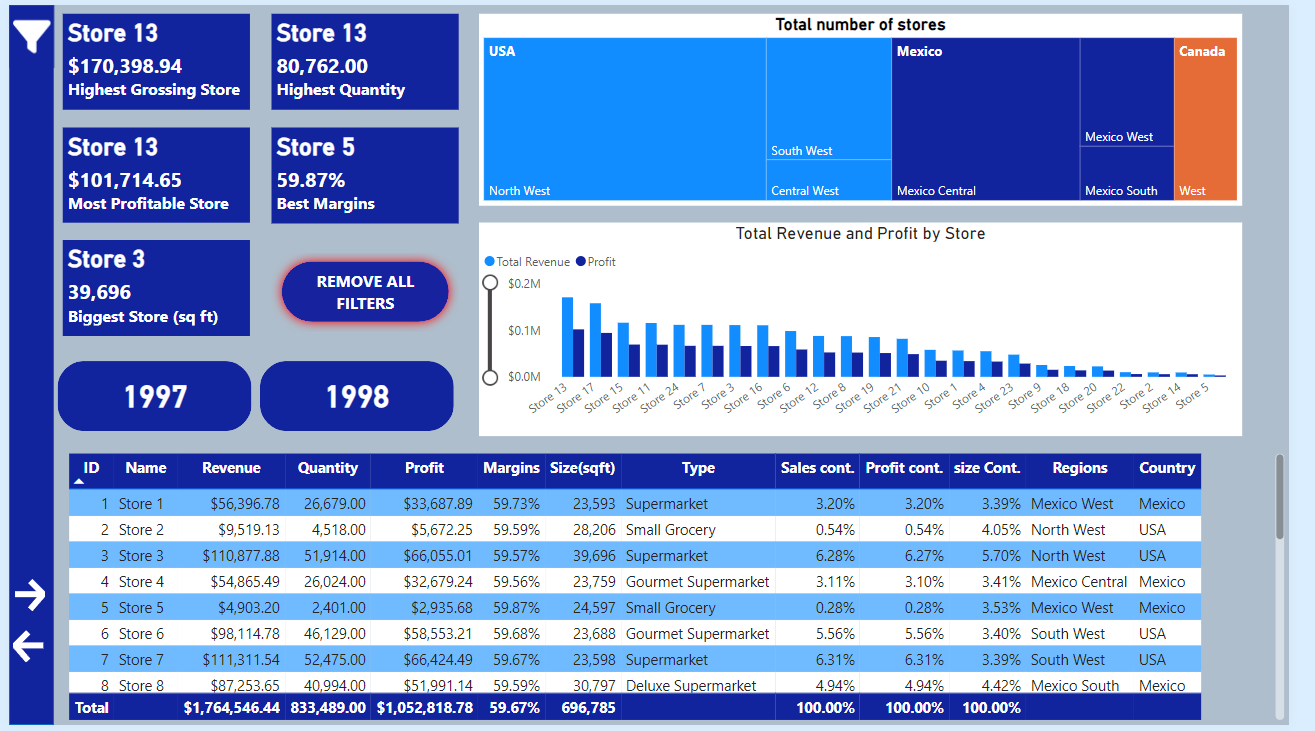

The dashboard page shown, as its layout file describes it:
{"tool":"powerbi","page":{"name":"Stores","canvas":[1280,720],"ordinal":1},"visuals":[{"type":"shape","title":"side bar","box":[0,0,45,720],"z":0},{"type":"tableEx","fields":{"Values":["Stores.store_id","Stores.store_name","Measures Table.Total Revenue","Measures Table.Total Quantity","Measures Table.Profit","Measures table.Profit Margin","Sum(Stores.total_sqft)","Stores.store_type","Measures Table.Revenue contribution-stores","Measures Table.Profit Cont","Measures Table.sqft","Stores.Regions"]},"box":[53.8,443.9,1226.5,276.4],"z":1000},{"type":"multiRowCard","title":"Highest grossing store","fields":{"Values":["Stores.store_name","Measures Table.Total Revenue"]},"box":[53.8,8.9,187.5,96.2],"z":2000},{"type":"multiRowCard","title":"Profit","fields":{"Values":["Stores.store_name","Measures Table.Profit"]},"box":[53.8,122.5,187.5,95],"z":3000},{"type":"multiRowCard","title":"Margins","fields":{"Values":["Stores.store_name","Measures Table.Profit Margin"]},"box":[262.5,122.5,187.5,96.2],"z":4000},{"type":"multiRowCard","title":"Biggest store","fields":{"Values":["Stores.store_name","Sum(Stores.total_sqft)"]},"box":[53.8,235,187.5,96.2],"z":5000},{"type":"multiRowCard","title":"Quantity","fields":{"Values":["Stores.store_name","Measures Table.Total Quantity"]},"box":[262.5,8.8,187.5,96.2],"z":6000},{"type":"treemap","title":"Total number of stores","fields":{"Values":["CountNonNull(Stores.store_id)"],"Group":["Stores.store_country"],"Details":["Stores.Regions"]},"box":[470.3,8.7,763.2,191.9],"z":7000},{"type":"advancedSlicerVisual","fields":{"Values":["Calendar.Yearly"]},"box":[43.8,351.2,406.2,80],"z":8000},{"type":"clusteredColumnChart","title":"Total Revenue and Profit by Store","fields":{"Category":["Stores.store_name"],"Y":["Measures Table.Total Revenue","Measures Table.Profit"]},"box":[470.3,217.9,763.2,213.5],"z":9000},{"type":"actionButton","title":"Remove all filters","box":[262.6,246.7,187.6,80.8],"z":10000},{"type":"actionButton","title":"Extra filter button","box":[0,0,45.7,62.9],"z":11000},{"type":"group","id":"g1","title":"Navigation arrows","box":[0,569.8,45.2,91.7],"z":11500},{"type":"actionButton","title":"Previous Page","box":[0,621.2,45.2,40.4],"z":17000,"group":"g1"},{"type":"actionButton","title":"Next Page","box":[0,569.8,45.2,40.4],"z":17500,"group":"g1"}]}

Visuals, with their boxes in screenshot pixels (x1, y1, x2, y2), scaled from the page's 1280x720 canvas onto the 1315x731 screenshot:
"side bar" shape: pyautogui.locateOnScreen(0, 0, 46, 730)
tableEx - Stores.store_id x Stores.store_name: pyautogui.locateOnScreen(55, 451, 1314, 730)
"Highest grossing store" multiRowCard: pyautogui.locateOnScreen(55, 9, 248, 107)
"Profit" multiRowCard: pyautogui.locateOnScreen(55, 124, 248, 221)
"Margins" multiRowCard: pyautogui.locateOnScreen(270, 124, 462, 222)
"Biggest store" multiRowCard: pyautogui.locateOnScreen(55, 239, 248, 336)
"Quantity" multiRowCard: pyautogui.locateOnScreen(270, 9, 462, 107)
"Total number of stores" treemap: pyautogui.locateOnScreen(483, 9, 1267, 204)
advancedSlicerVisual - Calendar.Yearly: pyautogui.locateOnScreen(45, 357, 462, 438)
"Total Revenue and Profit by Store" clusteredColumnChart: pyautogui.locateOnScreen(483, 221, 1267, 438)
"Remove all filters" actionButton: pyautogui.locateOnScreen(270, 250, 463, 333)
"Extra filter button" actionButton: pyautogui.locateOnScreen(0, 0, 47, 64)
"Navigation arrows" group: pyautogui.locateOnScreen(0, 579, 46, 672)
"Previous Page" actionButton: pyautogui.locateOnScreen(0, 631, 46, 672)
"Next Page" actionButton: pyautogui.locateOnScreen(0, 579, 46, 620)
